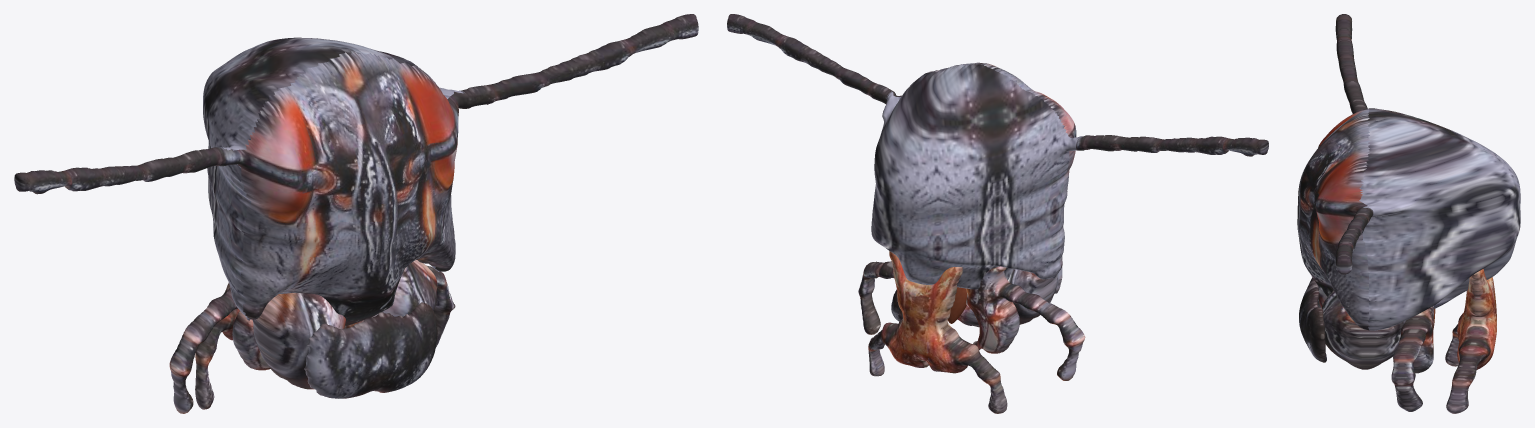
File: grasshopper_mouthparts.glb
The picture shows the model from 3 angles, left to right: view 1: azimuth 30°, elevation 25°; view 2: azimuth 150°, elevation 25°; view 3: azimuth 270°, elevation 25°; orthographic projection. The views are drawn at different scales.
Parts seen in each view (by area): view 1: Head_Capsule, Labrum, Mandible_R, Maxilla_R, Mandible_L, Labium, Maxilla_L; view 2: Head_Capsule, Labium, Maxilla_R, Maxilla_L, Mandible_R; view 3: Head_Capsule, Labium, Mandible_L, Maxilla_L, Labrum.
Part boxes in pixels (<box>): Head_Capsule: <box>14,14,698,325</box>; Labrum: <box>304,302,437,398</box>; Mandible_R: <box>252,293,345,389</box>; Maxilla_R: <box>169,288,270,413</box>; Mandible_L: <box>344,260,437,328</box>; Labium: <box>195,283,239,409</box>; Maxilla_L: <box>427,266,455,347</box>; Head_Capsule: <box>727,14,1268,289</box>; Labium: <box>868,251,1007,413</box>; Maxilla_R: <box>966,266,1085,380</box>; Maxilla_L: <box>858,261,902,334</box>; Mandible_R: <box>1008,269,1057,324</box>; Head_Capsule: <box>1297,14,1520,330</box>; Labium: <box>1445,269,1496,413</box>; Mandible_L: <box>1322,290,1406,369</box>; Maxilla_L: <box>1391,306,1434,411</box>; Labrum: <box>1299,277,1326,362</box>.
Size of the model in its own units: 6.48 by 3.45 by 2.51.
9 materials, 9 textured.
